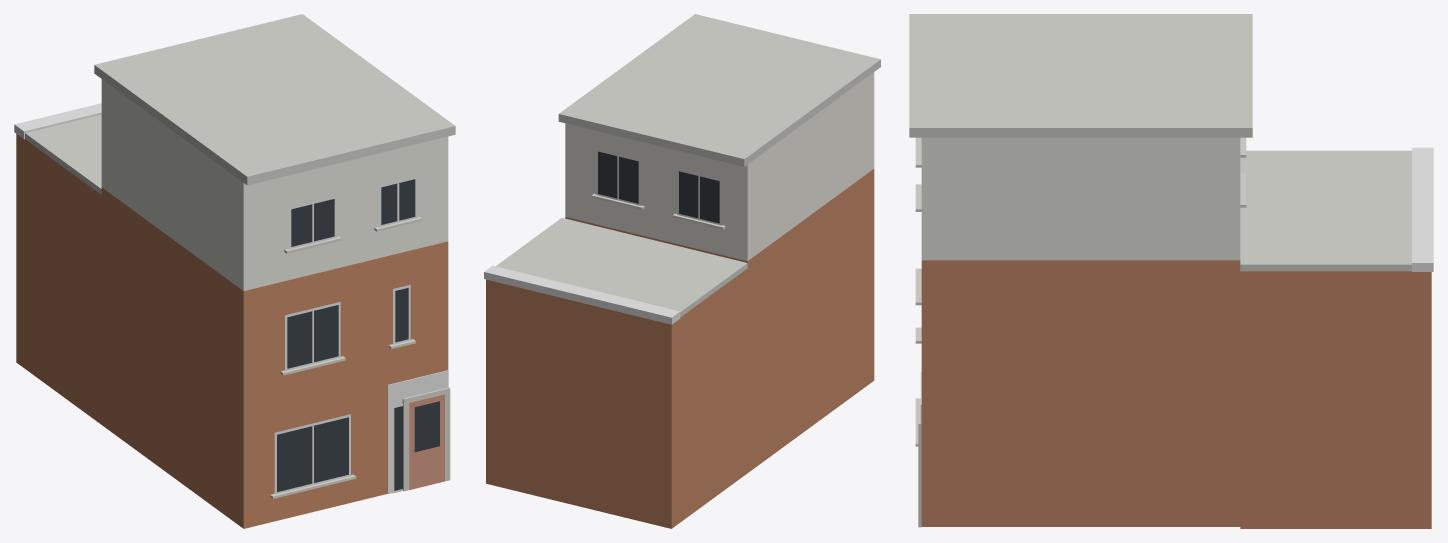
File: nw-os-band__brick__3__flat__long__solid__mirror.glb
3 renders of one model, left to right at view 1: azimuth 30°, elevation 25°; view 2: azimuth 150°, elevation 25°; view 3: azimuth 270°, elevation 25°, orthographic. The views are drawn at different scales.
Visible parts, largest first — view 1: nw-os-band__brick__3__flat__long__solid__mirror; view 2: nw-os-band__brick__3__flat__long__solid__mirror; view 3: nw-os-band__brick__3__flat__long__solid__mirror.
Boxes of the visible parts, x1,y1,x2,y2 form: nw-os-band__brick__3__flat__long__solid__mirror: (14,14,455,528); nw-os-band__brick__3__flat__long__solid__mirror: (484,14,880,528); nw-os-band__brick__3__flat__long__solid__mirror: (909,14,1433,528).
Bounding box in the file's own units: 5.58 × 9 × 10.69.
